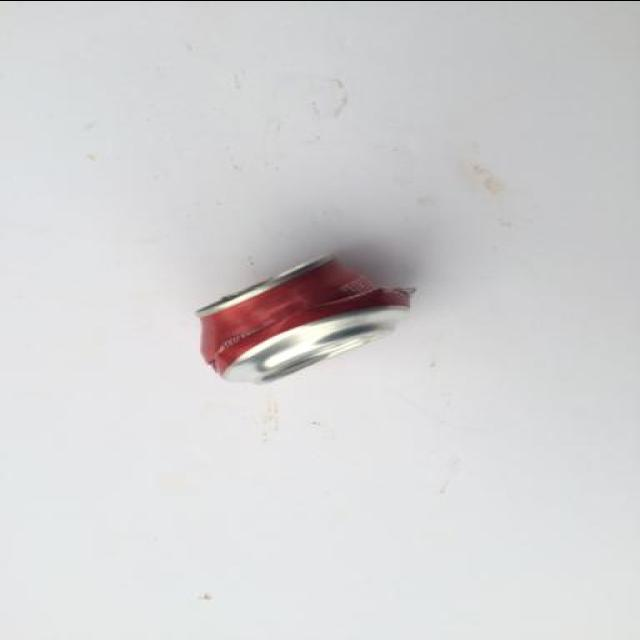Aluminum Can: (162, 228, 420, 428)
